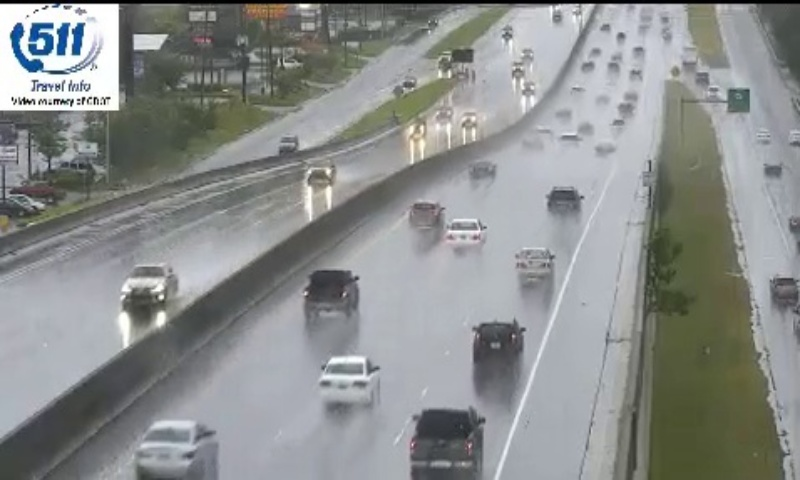car: (411, 407, 483, 480), (135, 420, 217, 480), (319, 354, 378, 405), (304, 270, 359, 312), (473, 318, 522, 361), (445, 219, 485, 249), (515, 249, 552, 280), (408, 201, 441, 228), (547, 188, 579, 215)
